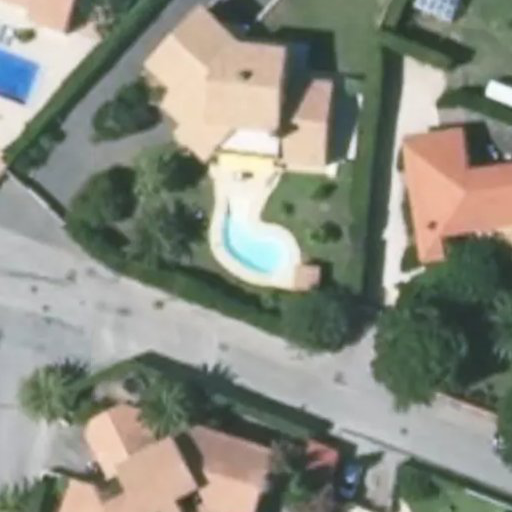pool: (211, 242, 296, 250)
